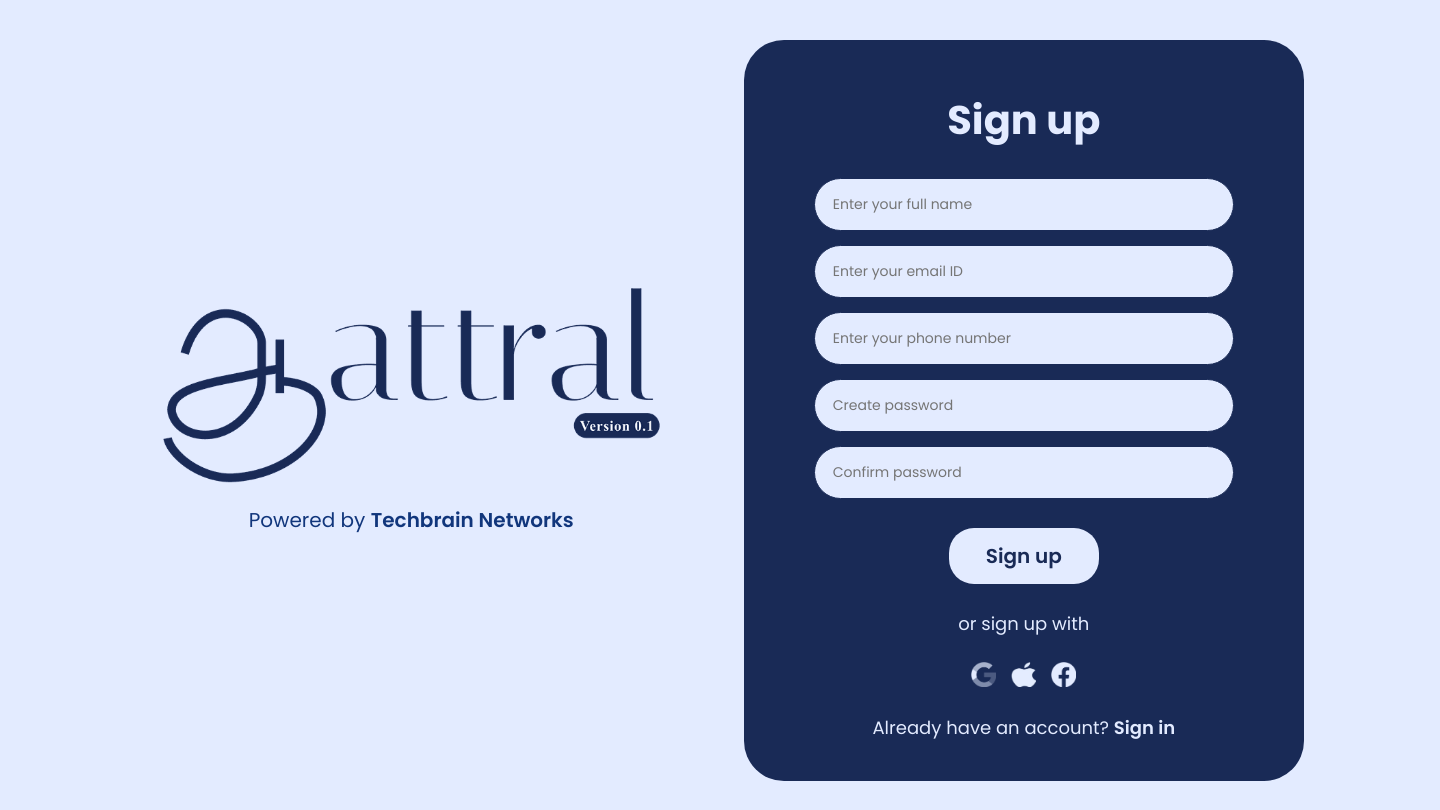
Scenario: Signuppage Component Tests › shows error for invalid email
Step 1. Type "invalidemail" into the field with placeholder "Enter your email ID" → (1024, 272), box 814,245 -> 1234,298
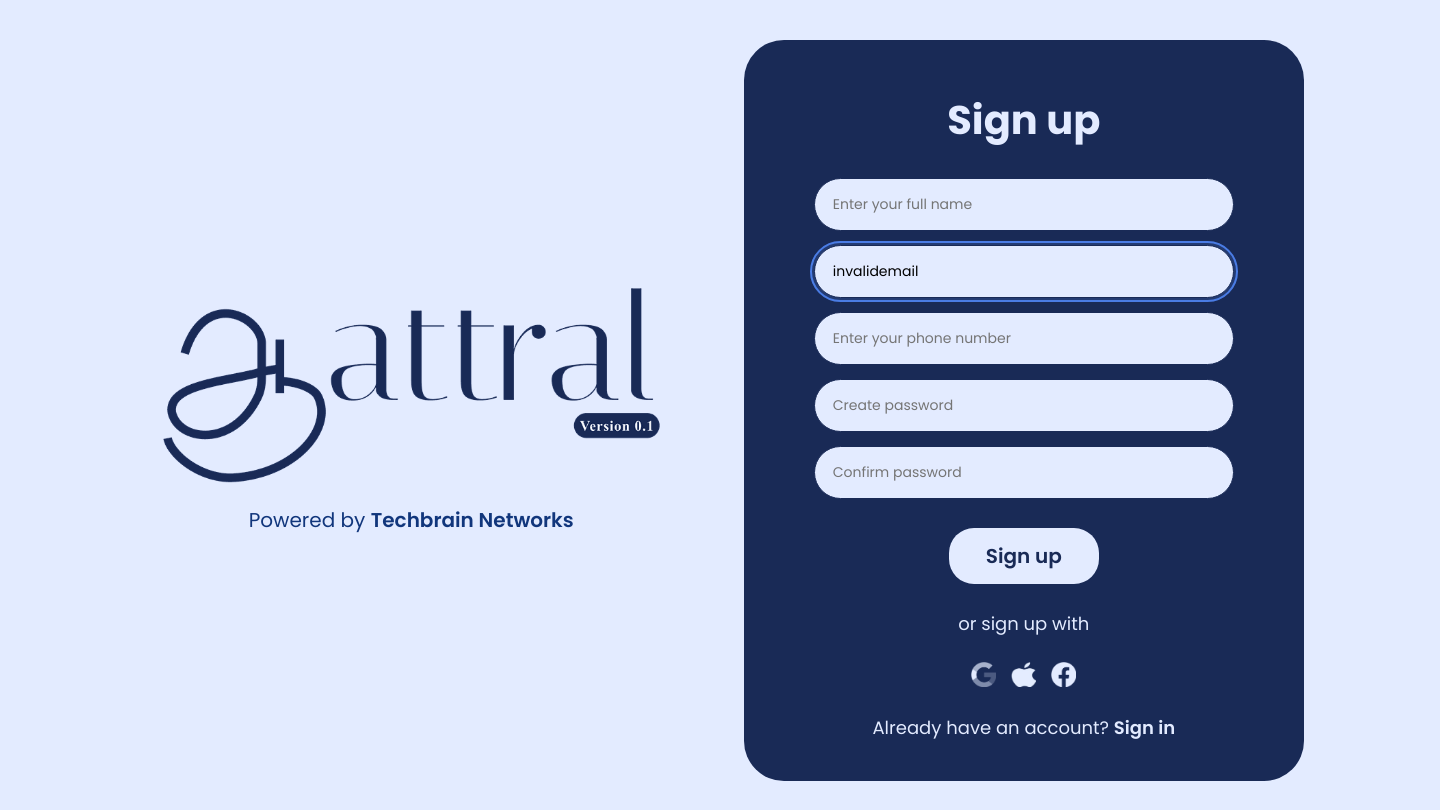
Step 2. Click the button "Sign up" → (1024, 556), box 949,528 -> 1099,584
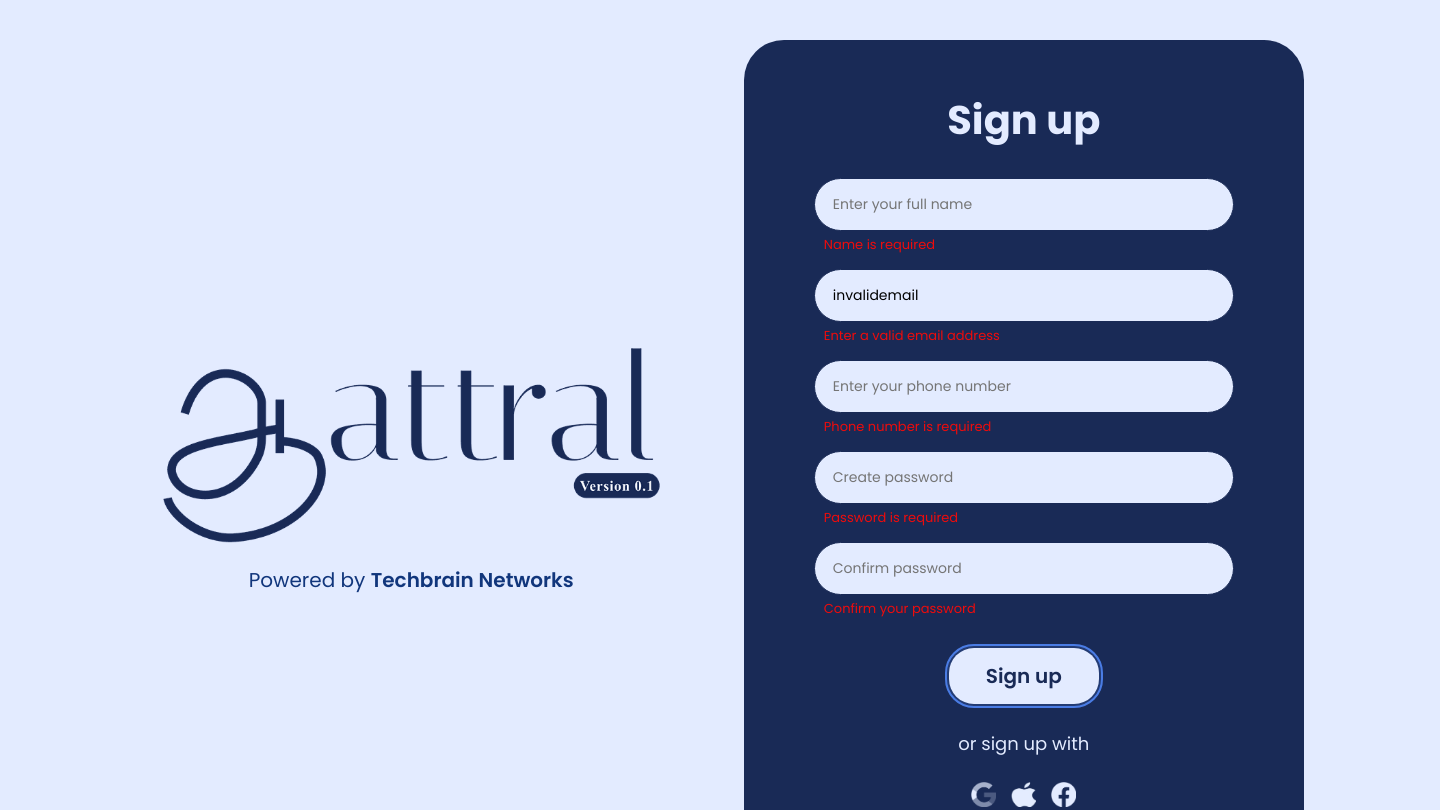
Check: the text "Enter a valid email address" is shown, box 824,326 -> 1000,345
